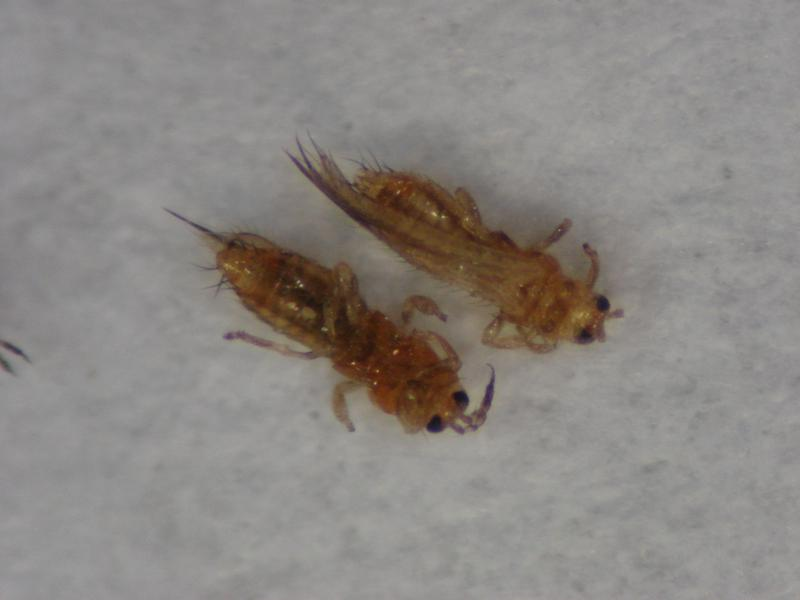Thrips: (189, 224, 477, 447), (308, 141, 611, 334)
